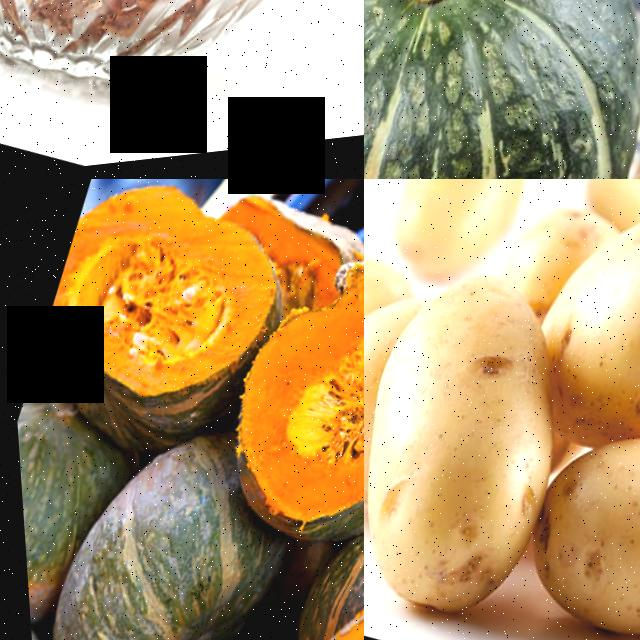potato: (364, 246, 597, 640), (504, 179, 640, 472), (491, 386, 640, 640), (366, 179, 558, 302)
pumpkin: (10, 179, 311, 469), (190, 192, 364, 593), (364, 0, 640, 179)
